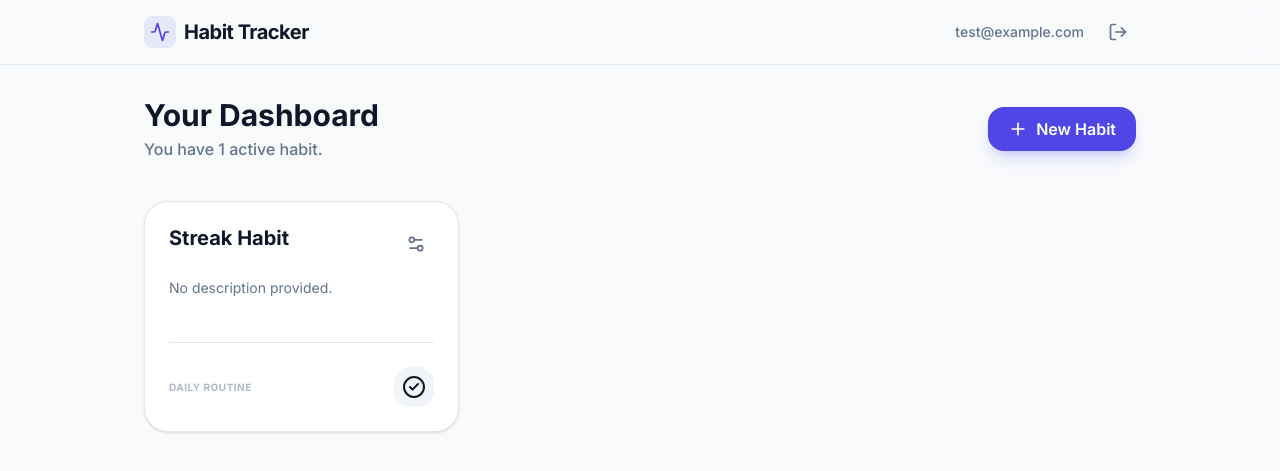
Test case: habit form › toggles completion and updates the streak display
Click the button with test id "habit-complete-streak-habit" at (414, 387), box [394,367,434,407]
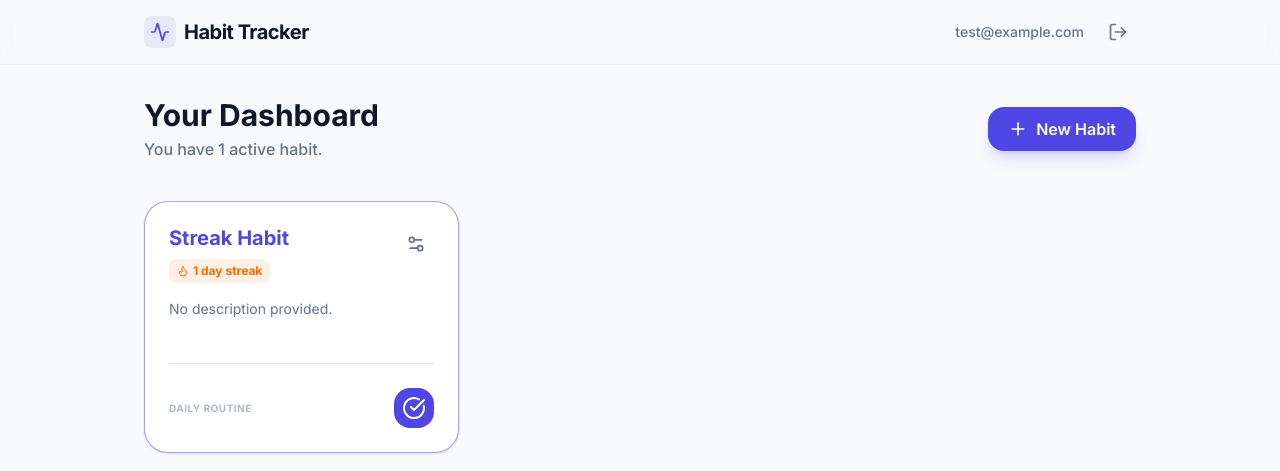
Check: the text "1 day streak" is shown, box [169,259,270,283]
